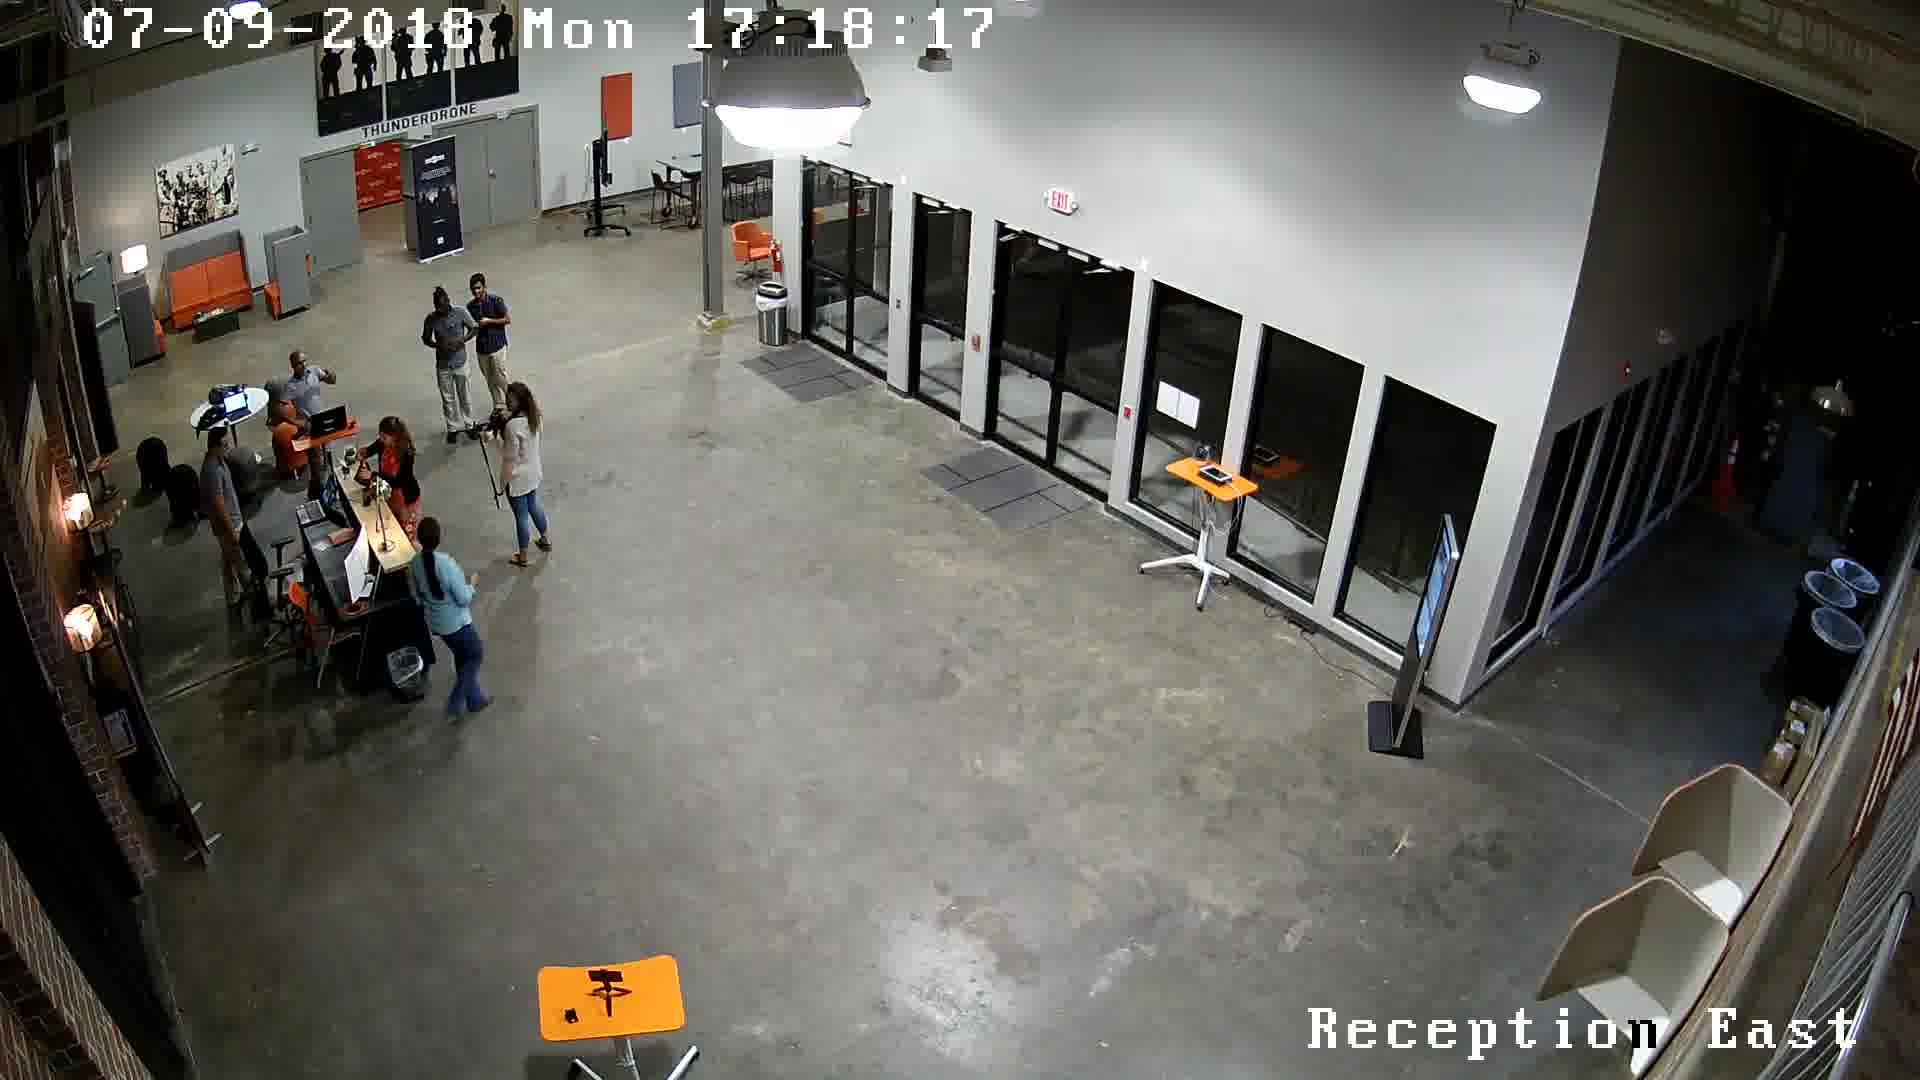pistol: (444, 335, 463, 353), (475, 311, 487, 327)
